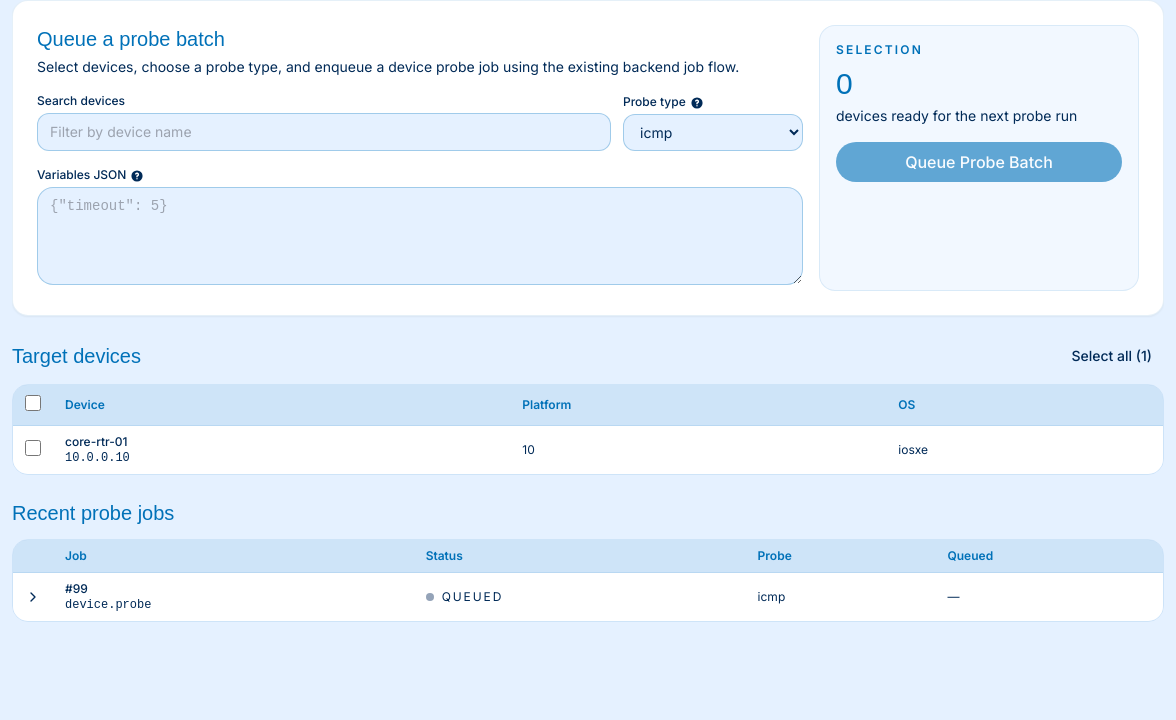
Scenario: MonitoringProbesPage › queues a probe job for selected devices
Expected: the text "core-rtr-01" is shown, [65,434,128,449]
Click the checkbox named "Select row 7".
click(33, 448)  # box [25,440,41,456]
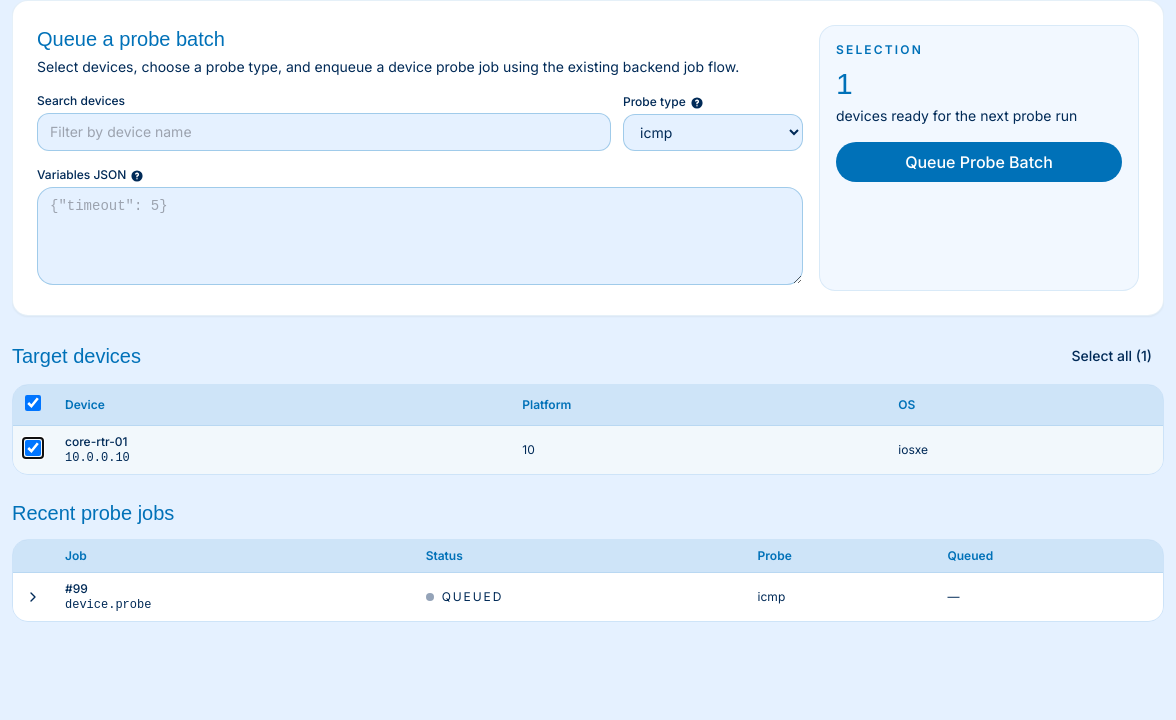
Click the button "Queue Probe Batch".
click(979, 162)  # box [836,142,1122,182]
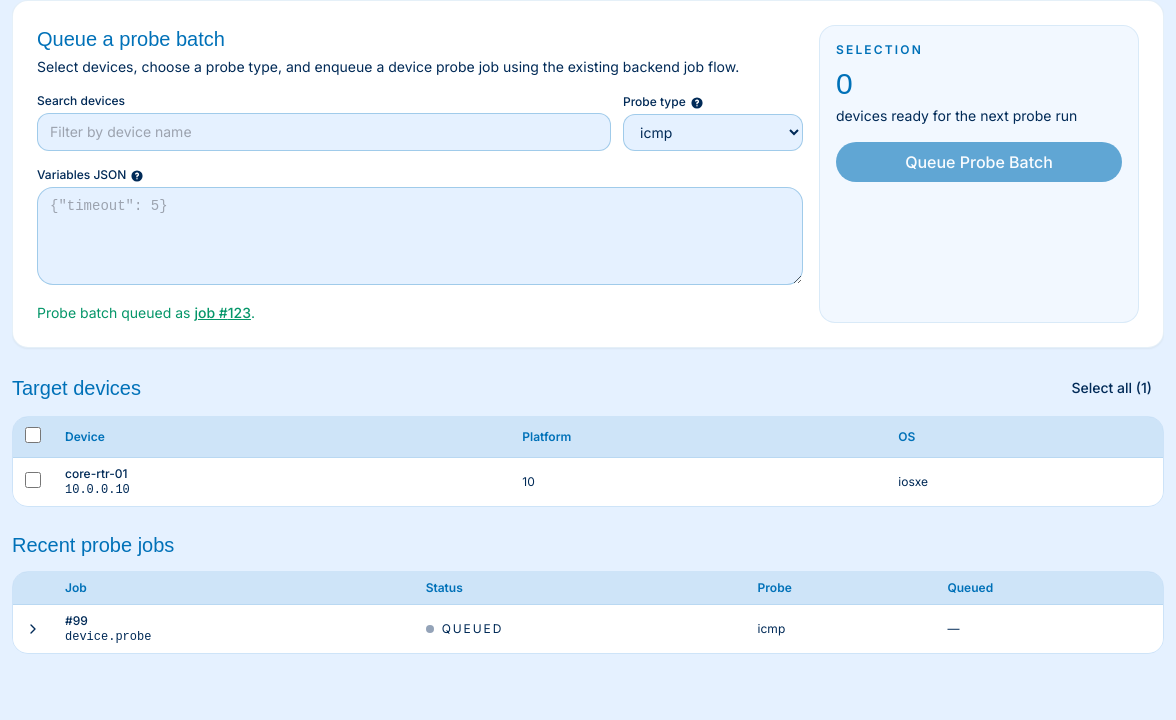
Expected: the text "Probe batch queued as job #123 ." is shown, [37,304,255,321]
